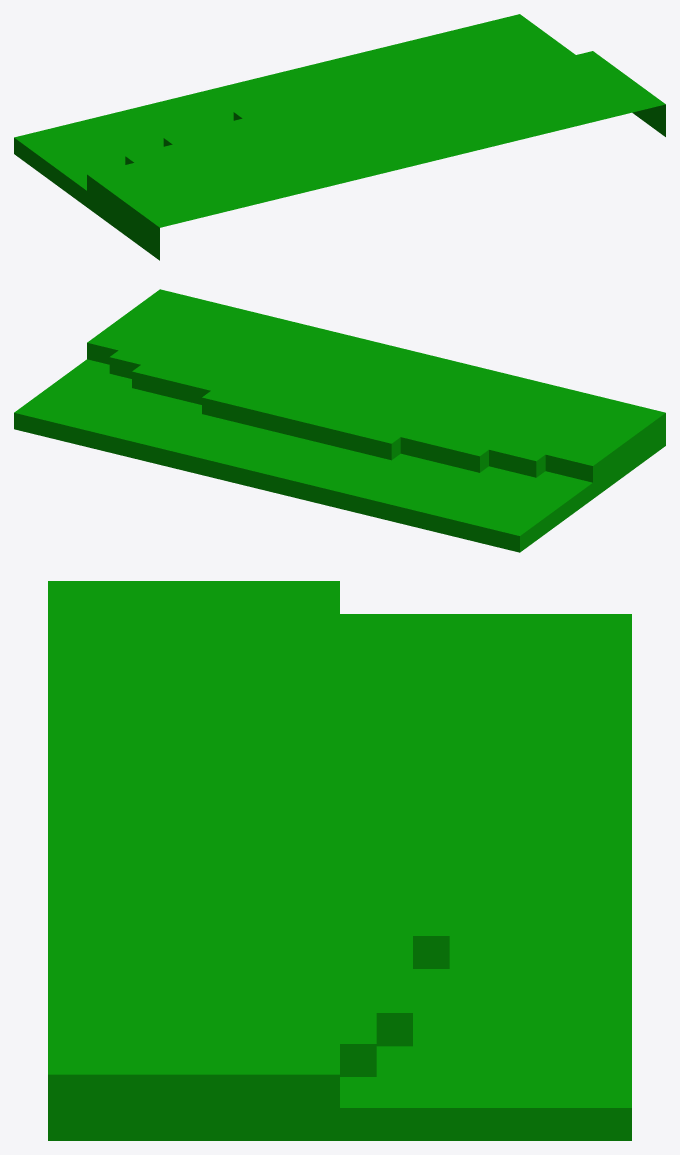
The model's file is Straight12.fbx.
3 renders of one model, top to bottom at view 1: azimuth 30°, elevation 25°; view 2: azimuth 150°, elevation 25°; view 3: azimuth 270°, elevation 25°, orthographic. The views are drawn at different scales.
Visible parts, largest first — view 1: Matrix; view 2: Matrix; view 3: Matrix.
Boxes of the visible parts, x1,y1,x2,y2 form: Matrix: (14,14,665,260); Matrix: (14,289,665,552); Matrix: (48,581,631,1140).
Size of the model in its own units: 32 by 2 by 16.
1 material, 1 textured.
